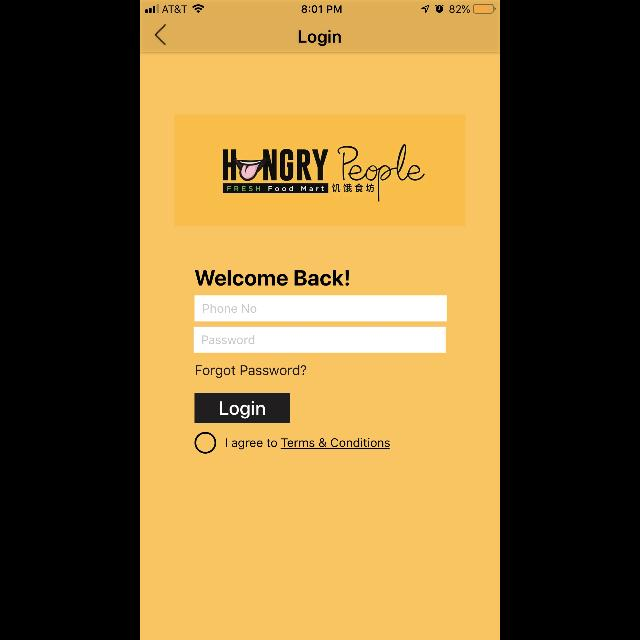checkbox: (195, 432, 217, 454)
icon: (154, 24, 166, 46)
image: (223, 144, 425, 202)
input: (194, 327, 446, 353), (195, 296, 447, 322)
text: (195, 270, 349, 286), (226, 438, 390, 450), (196, 364, 306, 378), (299, 30, 341, 46), (204, 304, 256, 314), (203, 336, 255, 344)
textbutton: (196, 393, 290, 423)
uppertaskbar: (140, 0, 500, 14)
